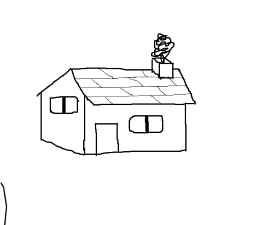closed_window: (121, 111, 176, 139), (44, 93, 83, 118)
door: (93, 118, 125, 157)
roof: (35, 63, 199, 110)
smoking_chimney: (148, 21, 177, 84)
wall: (78, 102, 196, 159)
